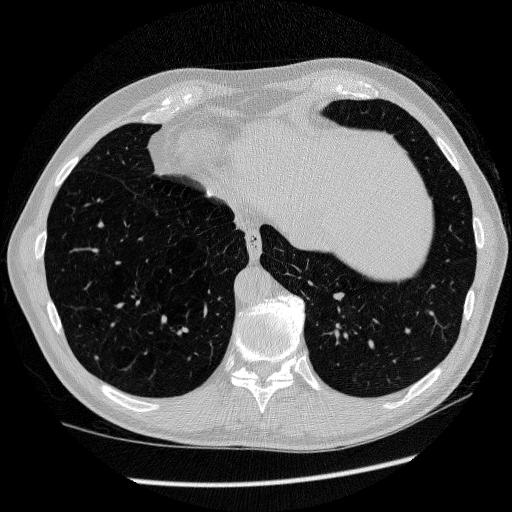nodule: (333, 289, 348, 304)
